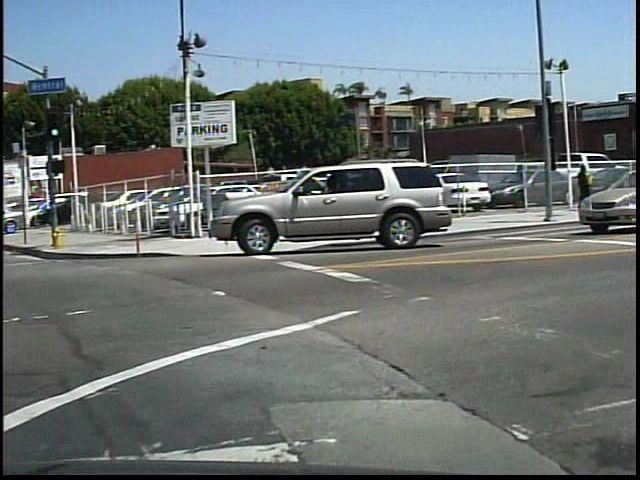person: (577, 163, 599, 214)
